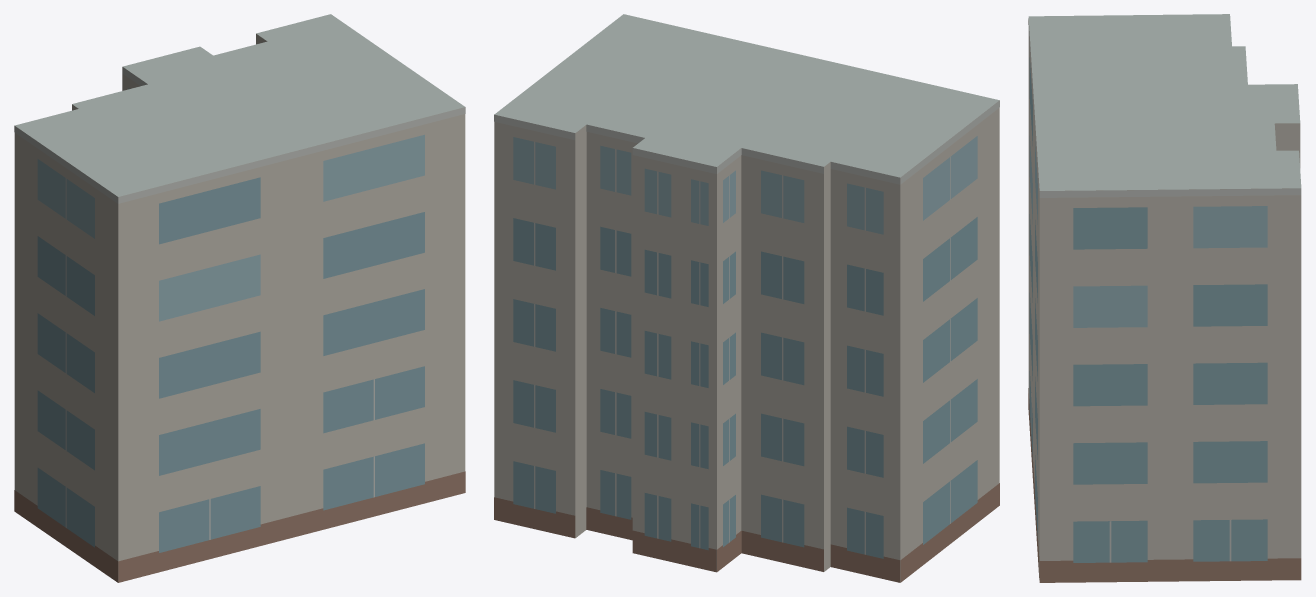
Rendered from survey-upis-32623695.glb.
The picture shows the model from 3 angles, left to right: view 1: azimuth 30°, elevation 25°; view 2: azimuth 150°, elevation 25°; view 3: azimuth 270°, elevation 25°; orthographic projection. The views are drawn at different scales.
Visible parts, largest first — view 1: survey-upis-32623695.tmp; view 2: survey-upis-32623695.tmp; view 3: survey-upis-32623695.tmp.
Part boxes in pixels (x1,y1,x2,y2): survey-upis-32623695.tmp: (14,14,465,582); survey-upis-32623695.tmp: (494,14,999,582); survey-upis-32623695.tmp: (1028,14,1301,582).
Bounding box in the file's own units: 13.33 × 13.75 × 8.69.
